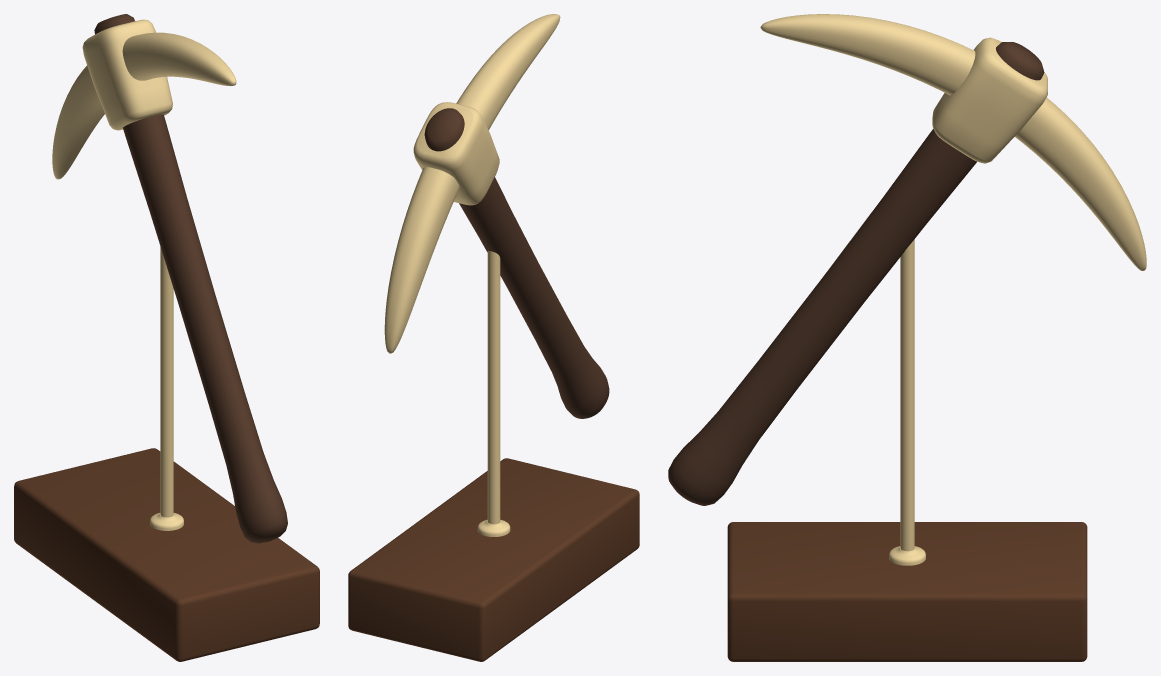
The model's file is pickaxe.fbx.
3 renders of one model, left to right at view 1: azimuth 30°, elevation 25°; view 2: azimuth 150°, elevation 25°; view 3: azimuth 270°, elevation 25°, orthographic. The views are drawn at different scales.
Parts seen in each view (by area): view 1: pickaxe; view 2: pickaxe; view 3: pickaxe.
Part boxes in pixels (x1,y1,x2,y2): pickaxe: (14,14,319,661); pickaxe: (348,14,639,661); pickaxe: (668,14,1146,661).
Bounding box in the file's own units: 0.06 × 0.1595 × 0.2243.
